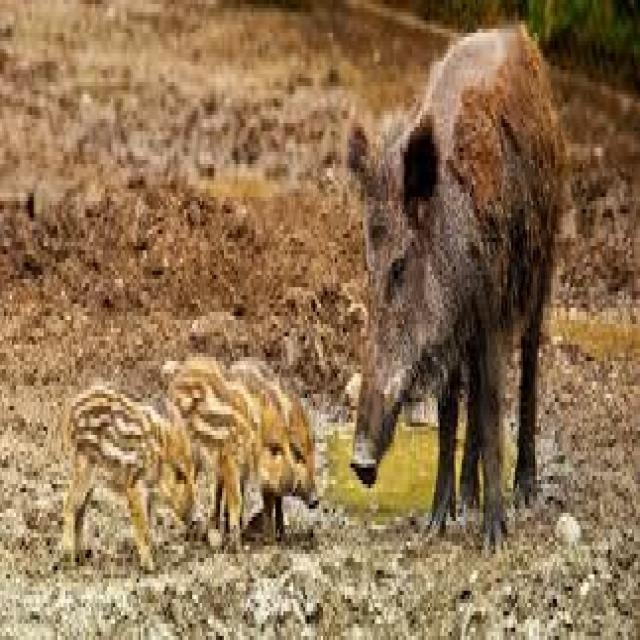boar: (322, 6, 624, 640)
